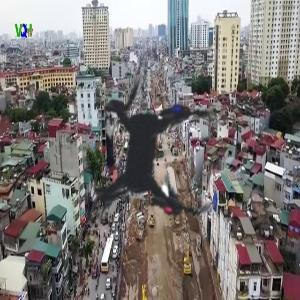drone: (10, 12, 286, 288)
